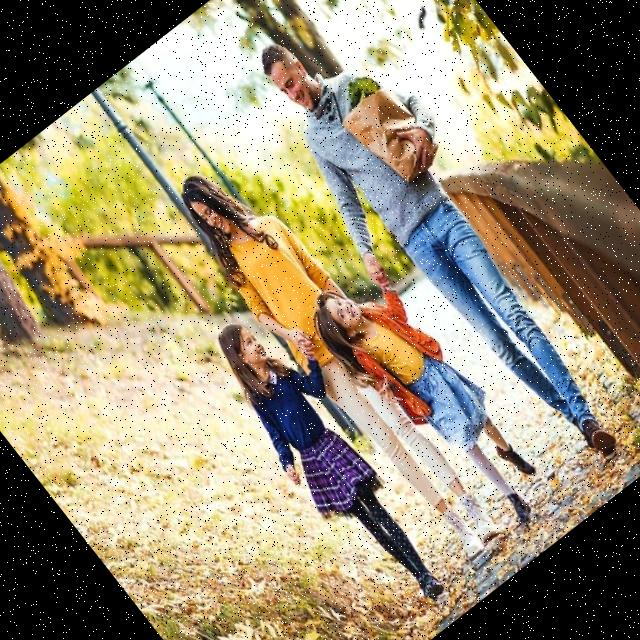Person: (221, 0, 640, 500), (162, 145, 522, 572), (194, 298, 474, 622), (302, 254, 565, 554)
